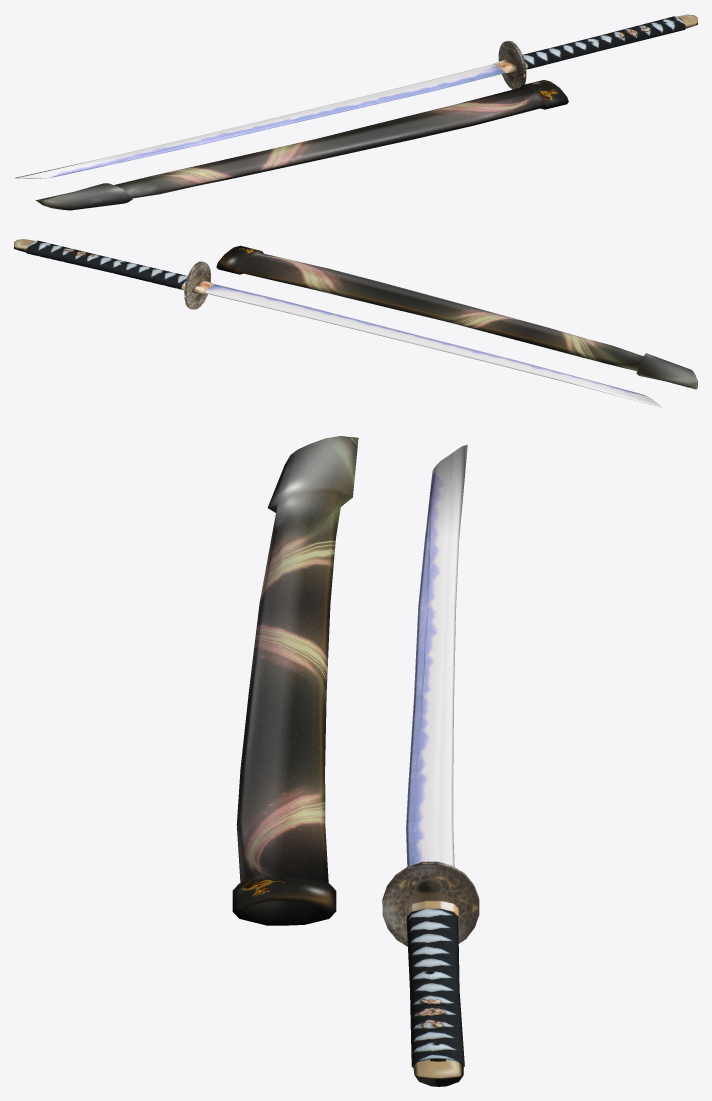
Rendered from katana.FBX.
3 views of the same model, one above another, from view 1: azimuth 30°, elevation 25°; view 2: azimuth 150°, elevation 25°; view 3: azimuth 270°, elevation 25° (orthographic). The views are drawn at different scales.
Parts seen in each view (by area): view 1: Katana; view 2: Katana; view 3: Katana.
Boxes of the visible parts, x1,y1,x2,y2 form: Katana: (15,14,697,210); Katana: (14,239,697,407); Katana: (232,436,479,1086).
Size of the model in its own units: 339 by 21.57 by 54.89.
1 material, 1 textured.
